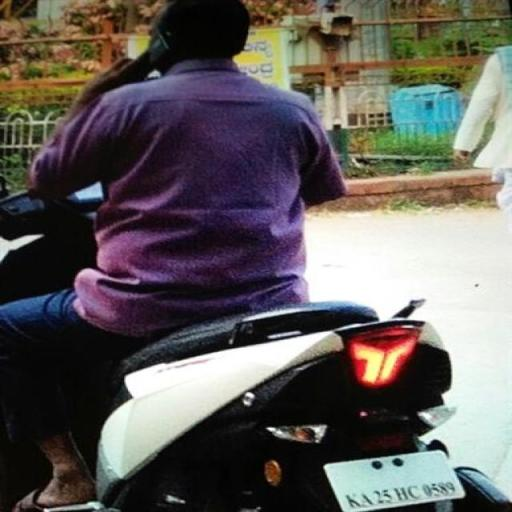using mobile: (113, 24, 175, 85)
